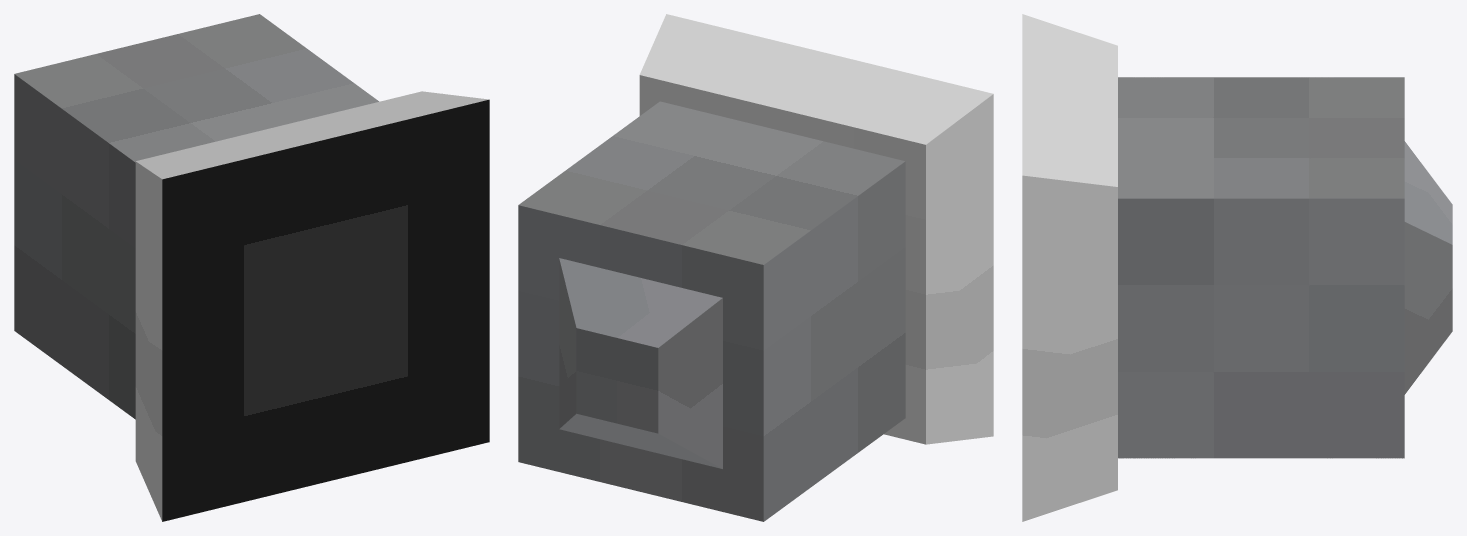
Rendered from siren.obj.
3 views of the same model, side by side, from view 1: azimuth 30°, elevation 25°; view 2: azimuth 150°, elevation 25°; view 3: azimuth 270°, elevation 25° (orthographic).
Parts seen in each view (by area): view 1: cuboid; view 2: cuboid; view 3: cuboid.
Part boxes in pixels (box(x1,y1,x2,y2)): cuboid: box(14, 14, 489, 521); cuboid: box(518, 14, 993, 521); cuboid: box(1022, 14, 1452, 521).
Size of the model in its own units: 0.25 by 0.25 by 0.2812.
